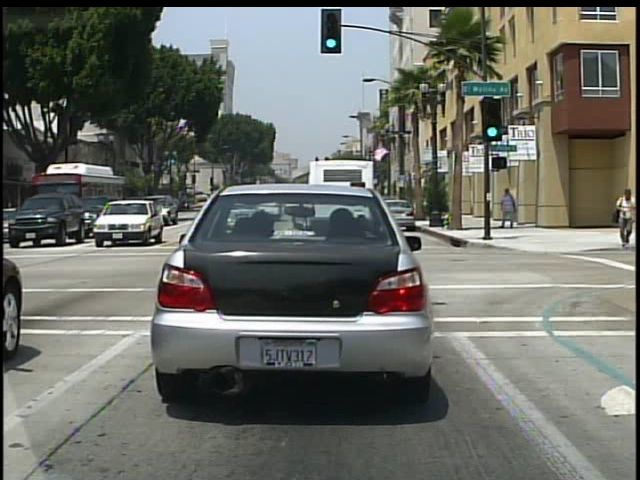person: (613, 189, 639, 251), (500, 188, 520, 229)
